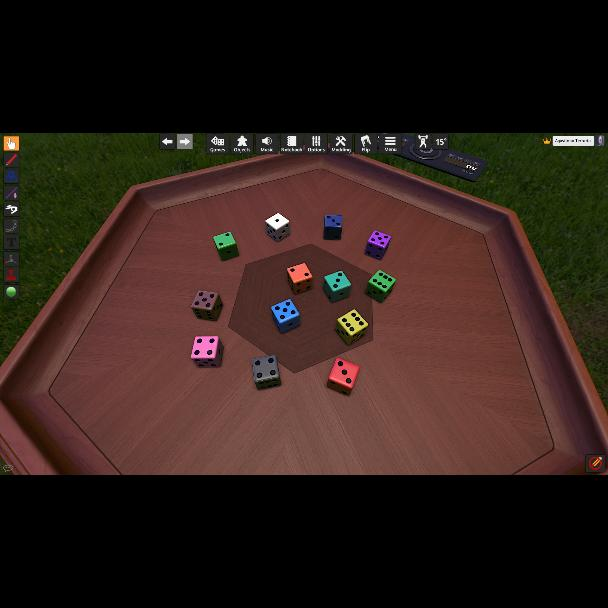d6: (327, 358, 359, 396), (336, 310, 368, 346), (270, 298, 300, 334), (191, 335, 223, 367), (365, 270, 395, 304), (252, 356, 280, 390), (191, 290, 221, 321), (323, 271, 350, 303), (286, 263, 312, 295), (364, 230, 390, 262), (213, 231, 239, 261), (264, 212, 290, 242), (323, 215, 341, 241)
